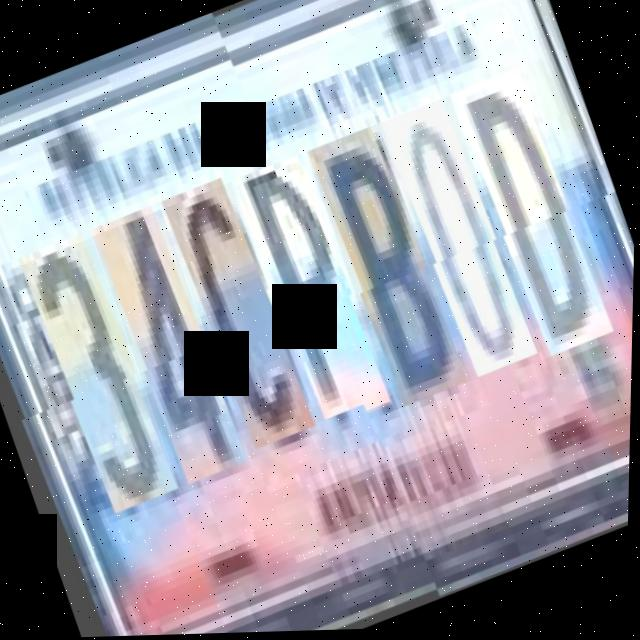3: (17, 236, 188, 527)
4: (89, 208, 258, 498)
B: (303, 124, 474, 415)
C: (159, 182, 324, 464)
D: (446, 68, 620, 367)
O: (376, 97, 545, 387)
P: (229, 153, 398, 436)
